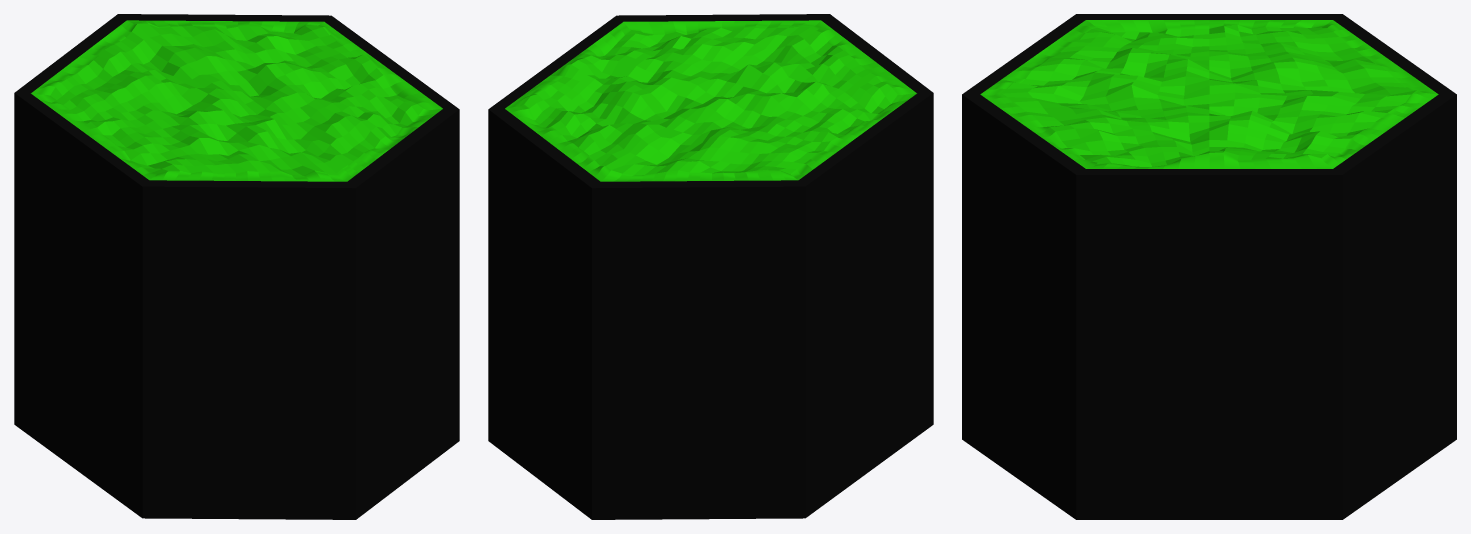
File: grass-hex.obj
3 renders of one model, left to right at view 1: azimuth 30°, elevation 25°; view 2: azimuth 150°, elevation 25°; view 3: azimuth 270°, elevation 25°, orthographic. The views are drawn at different scales.
Parts seen in each view (by area): view 1: Cube.001; view 2: Cube.001; view 3: Cube.001.
Part boxes in pixels (x1=…): Cube.001: x1=14, y1=14, x2=459, y2=519; Cube.001: x1=488, y1=14, x2=933, y2=519; Cube.001: x1=962, y1=14, x2=1456, y2=519.
Size of the model in its own units: 2 by 2.06 by 2.6.
